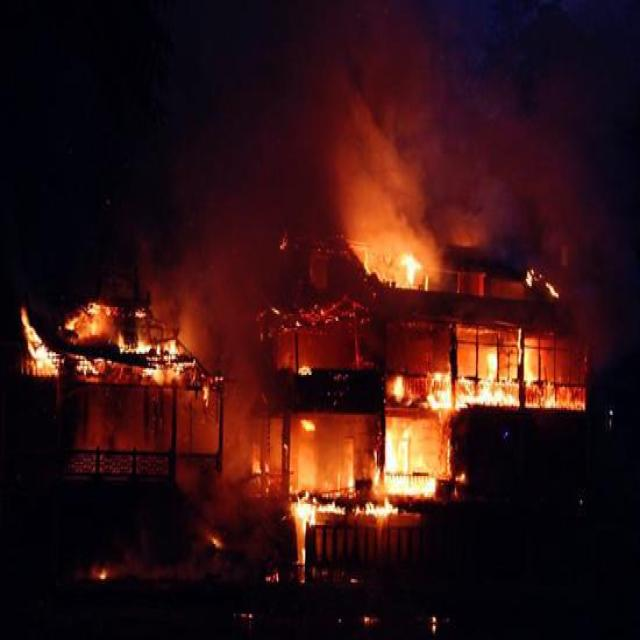fire: (252, 402, 466, 516), (5, 288, 214, 385), (382, 319, 588, 402), (346, 195, 438, 288)
